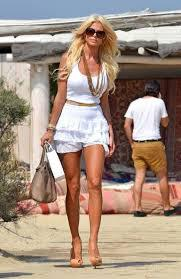Person: (28, 11, 120, 271), (122, 76, 178, 216)
